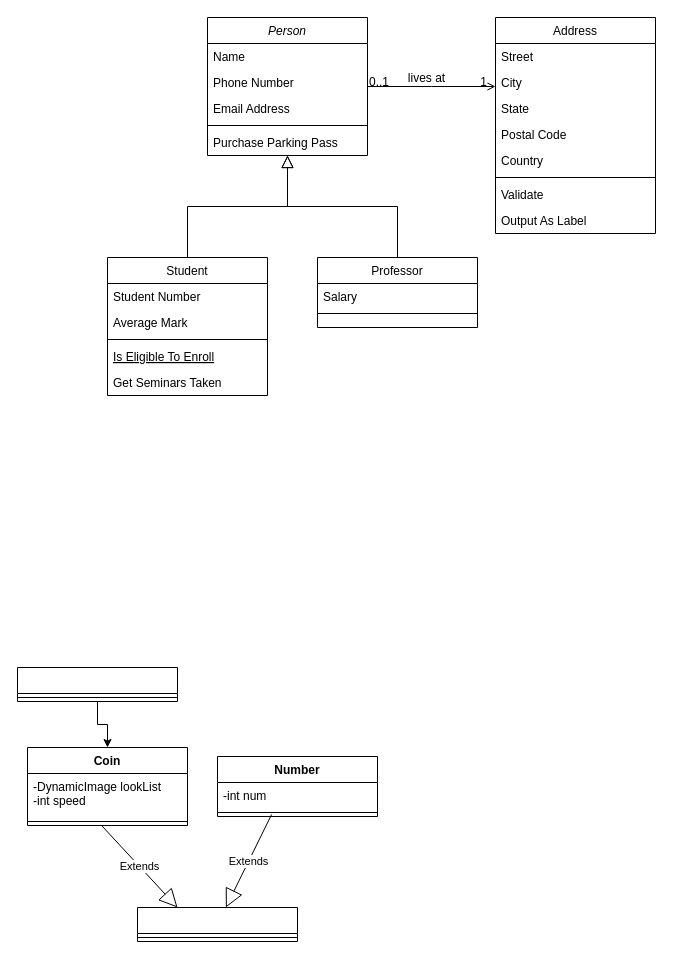
Image size: 673x959. Some labels were removed from this diagram. Each missing label, with the centre of its shape:
DynamicImage: (97,684)
Entity: (217,924)
